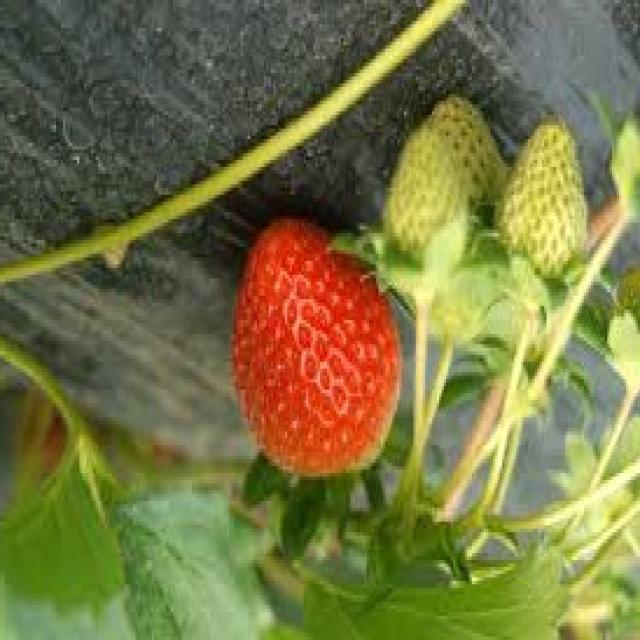immature: (496, 122, 588, 282), (389, 124, 468, 262)
mature: (229, 215, 403, 476)
